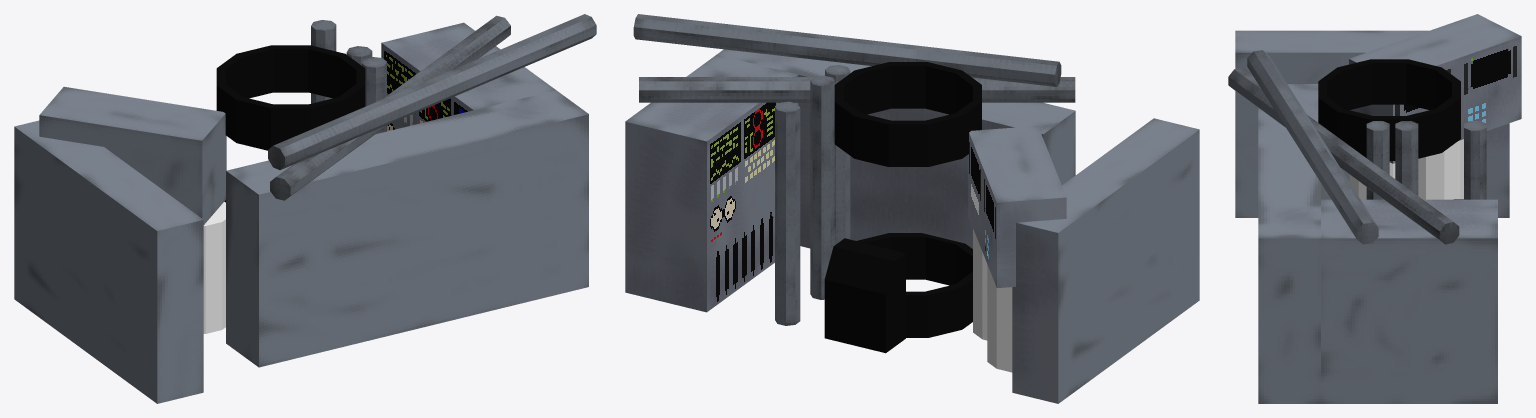
File: clone_vat.gltf
The picture shows the model from 3 angles, left to right: view 1: azimuth 30°, elevation 25°; view 2: azimuth 150°, elevation 25°; view 3: azimuth 270°, elevation 25°; orthographic projection. The views are drawn at different scales.
Parts seen in each view (by area): view 1: computers, pipes, tank_decorations, input_tanks; view 2: computers, pipes, tank_decorations, input_tanks; view 3: computers, pipes, tank_decorations, input_tanks.
Part boxes in pixels (x1,y1,x2,y2): computers: (14, 22, 588, 403); pipes: (268, 14, 596, 200); tank_decorations: (216, 45, 365, 202); input_tanks: (203, 201, 225, 333); computers: (625, 49, 1199, 403); pipes: (633, 14, 1075, 325); tank_decorations: (824, 62, 981, 353); input_tanks: (973, 228, 1012, 372); computers: (1235, 14, 1521, 403); pipes: (1228, 50, 1486, 244); tank_decorations: (1318, 59, 1463, 199); input_tanks: (1349, 139, 1463, 199).
Bounding box in the file's own units: 6.09 × 2.5 × 3.21.
5 materials, 4 textured.
